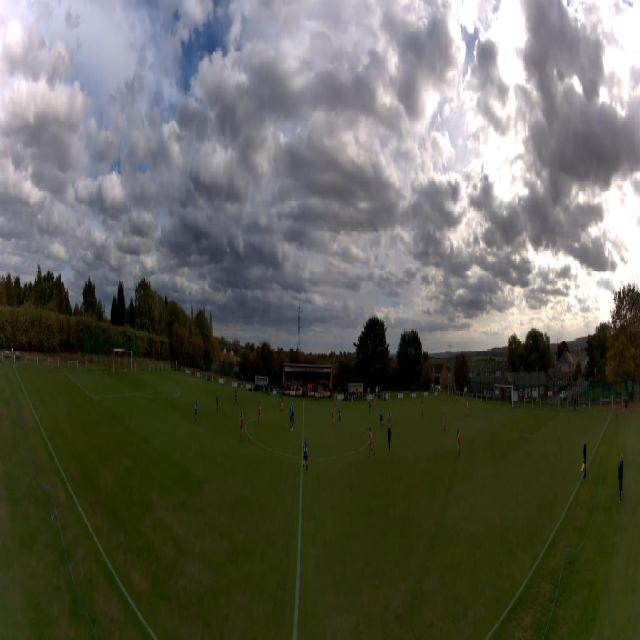ball: (383, 410, 385, 415)
player: (302, 439, 308, 475), (369, 427, 375, 457), (387, 425, 392, 453), (240, 412, 244, 441), (456, 428, 460, 456), (194, 399, 198, 425), (258, 401, 262, 426), (289, 407, 293, 431), (291, 403, 295, 424), (331, 406, 335, 425), (388, 408, 392, 426), (380, 409, 384, 427), (234, 387, 238, 405), (280, 396, 284, 413), (442, 409, 445, 431), (338, 402, 341, 423), (216, 392, 219, 413), (421, 401, 424, 420), (369, 399, 372, 415), (373, 396, 377, 408), (279, 391, 282, 403), (135, 361, 137, 378), (467, 401, 469, 417)
